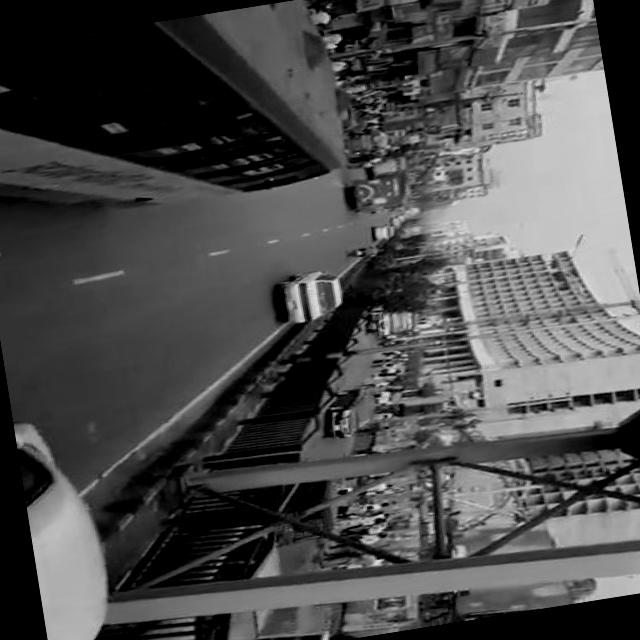bus: (0, 0, 358, 238), (354, 172, 413, 212), (367, 298, 422, 338)
car: (72, 518, 298, 640), (280, 265, 348, 324), (323, 382, 382, 439), (373, 222, 397, 241)
motorcycle: (260, 474, 346, 550), (346, 244, 376, 256)
